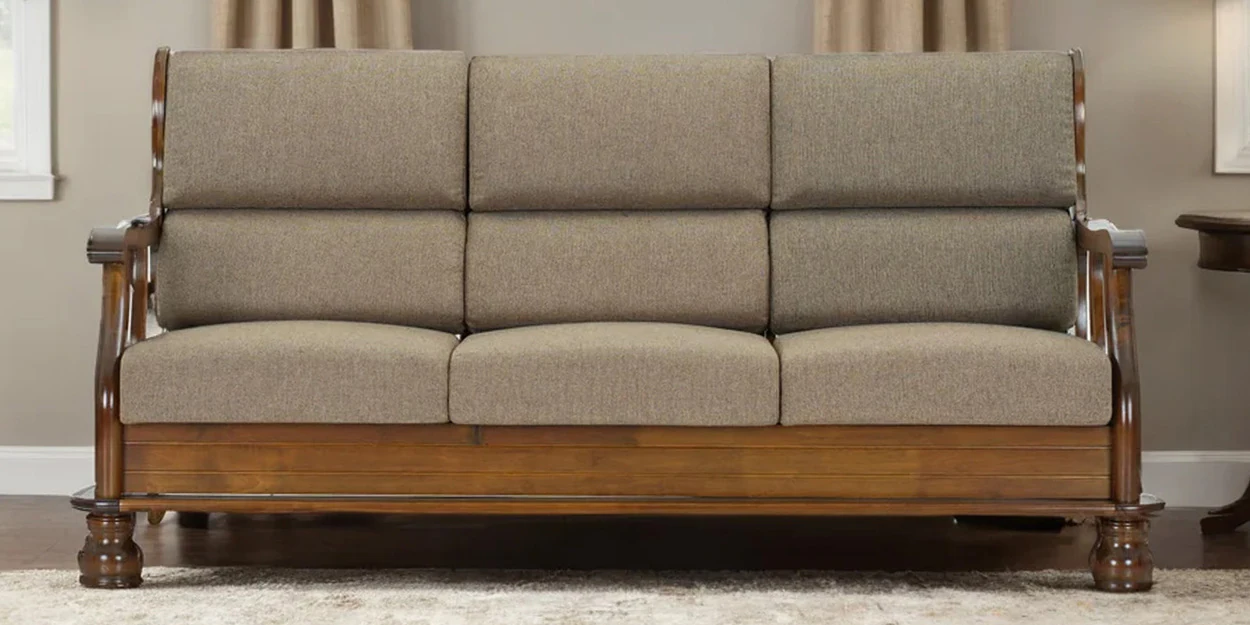3seatersofa: (78, 48, 1164, 591)
base: (71, 423, 1163, 531)
leftarmrest: (1069, 49, 1147, 504)
leg: (78, 508, 142, 588), (1090, 517, 1153, 592)
rightarmrest: (87, 47, 170, 499)
seat: (122, 321, 1110, 426), (102, 424, 1161, 515)
